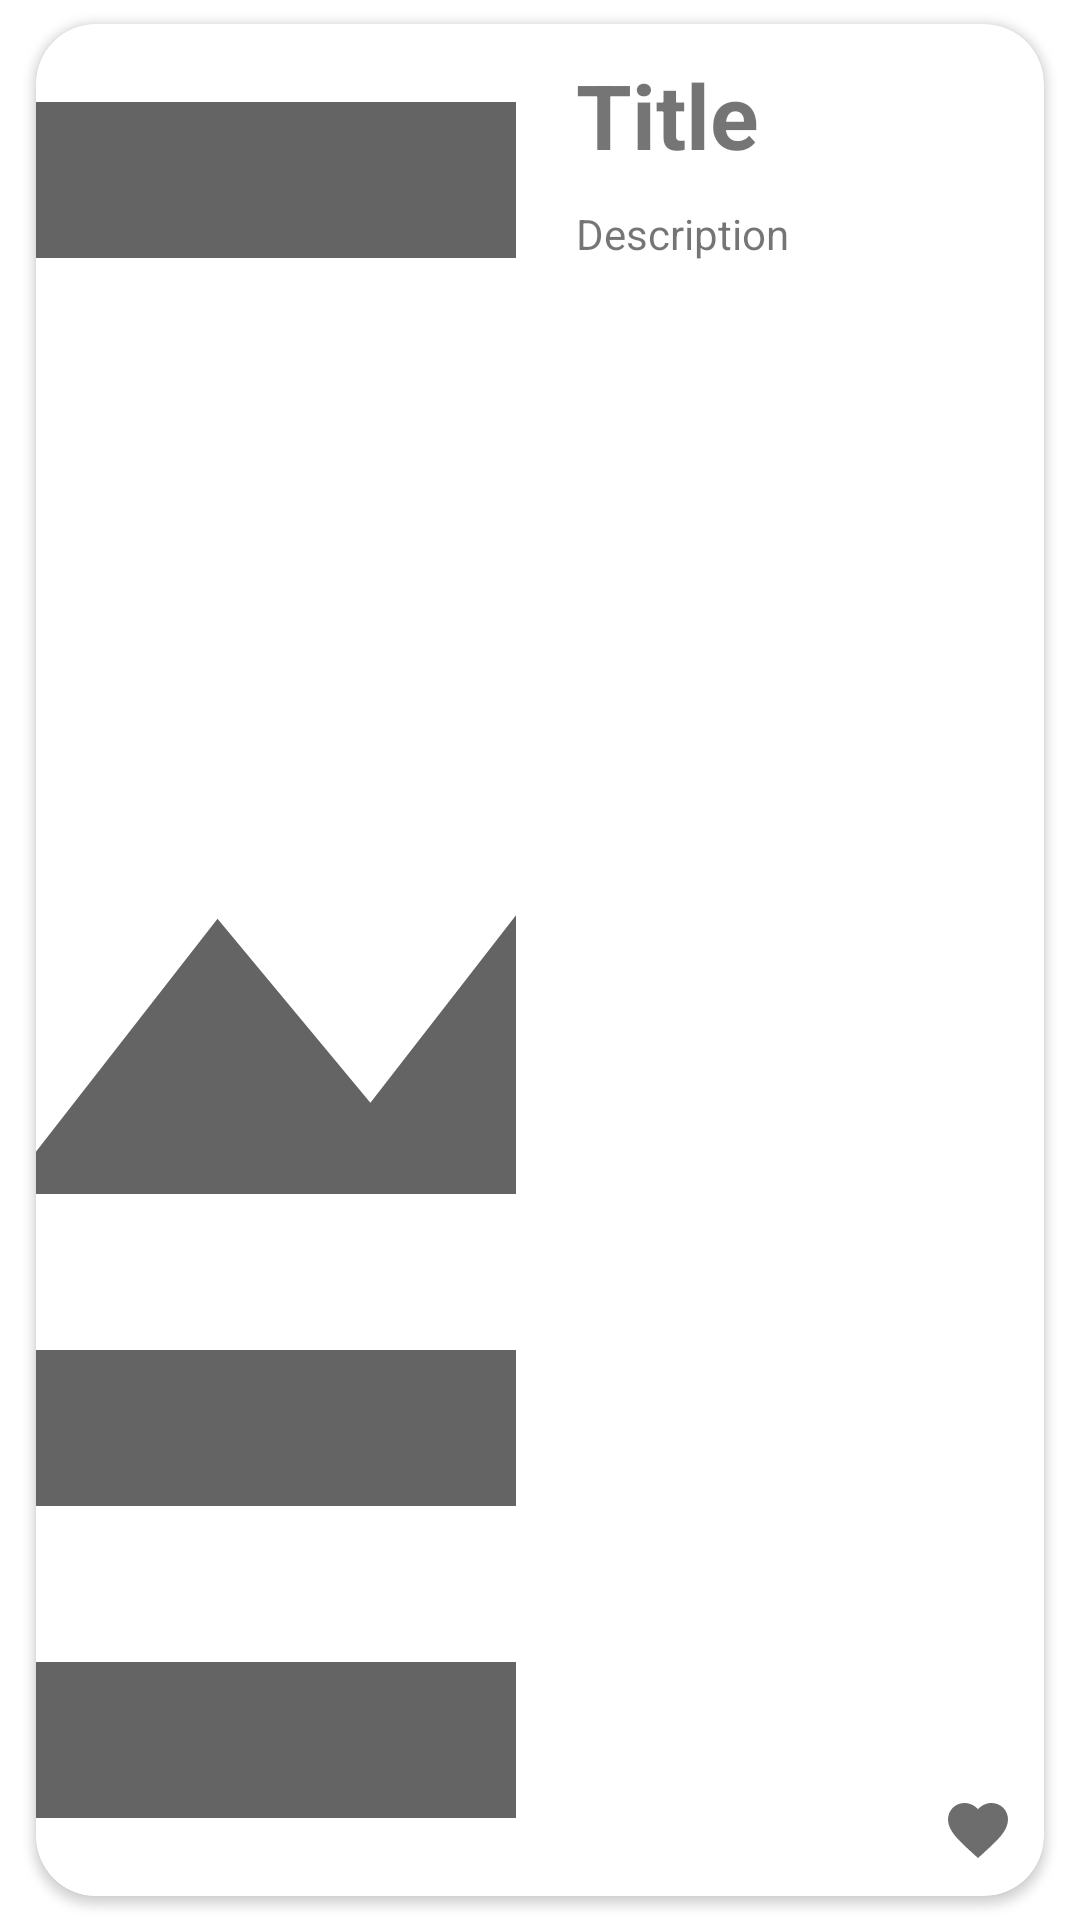

Point at icon controls on the screen. Image size 1080 x 1920, points as (x,y).
heart: (978,1830)
